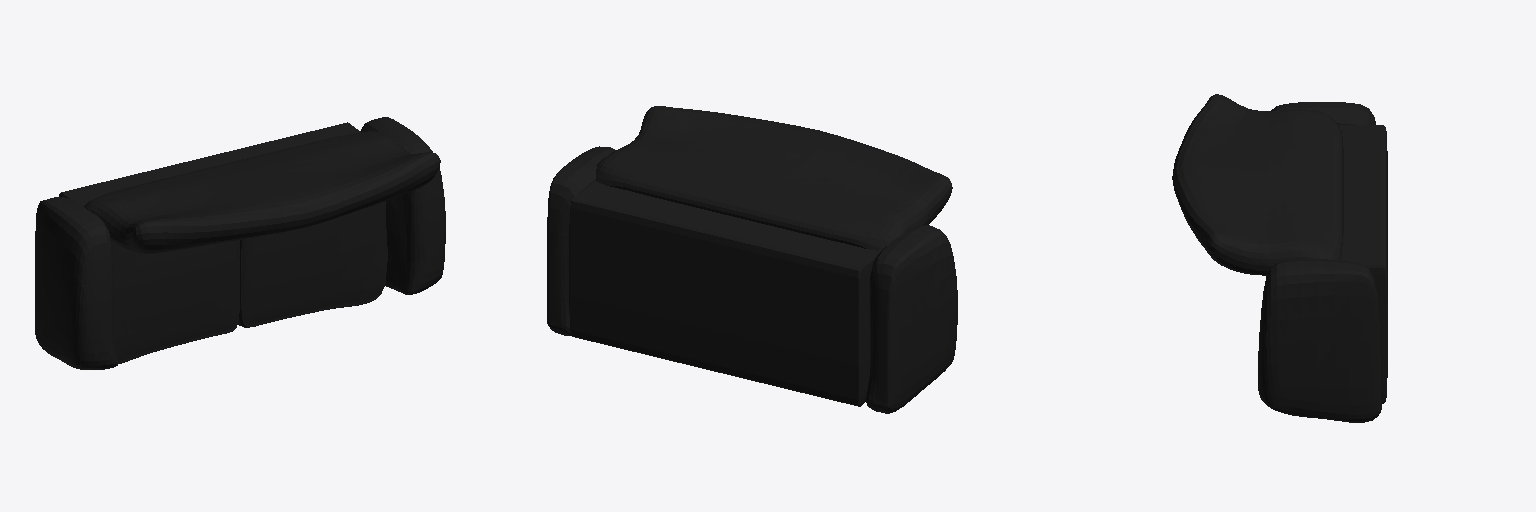
Rendered from simple_sofa.obj.
3 views of the same model, side by side, from view 1: azimuth 30°, elevation 25°; view 2: azimuth 150°, elevation 25°; view 3: azimuth 270°, elevation 25° (orthographic).
Visible parts, largest first — view 1: sofa_Cube_Material.004; view 2: sofa_Cube_Material.004; view 3: sofa_Cube_Material.004.
Part boxes in pixels (x1,y1,x2,y2): sofa_Cube_Material.004: (35,117,445,369); sofa_Cube_Material.004: (547,106,957,413); sofa_Cube_Material.004: (1172,94,1387,422).
Bounding box in the file's own units: 16.66 × 7.9 × 8.4.